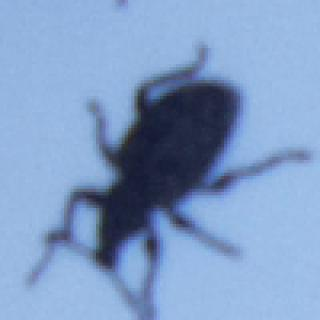bvw: (24, 41, 309, 318)
